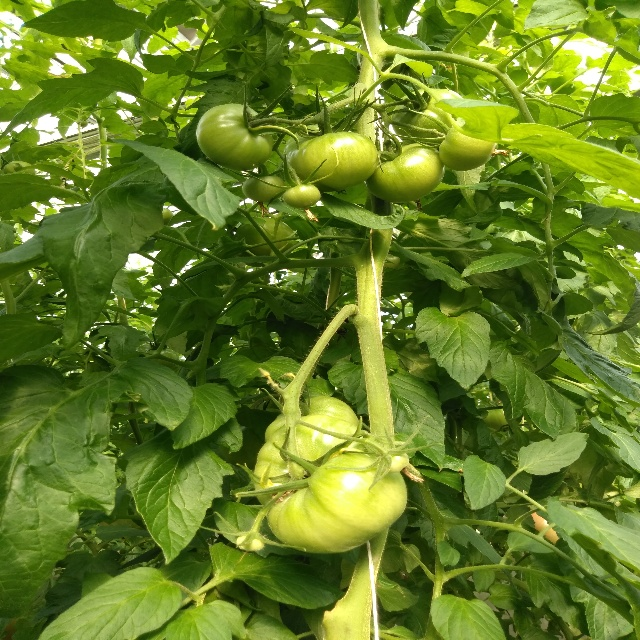b_green: (252, 414, 408, 553), (281, 124, 380, 192), (196, 103, 274, 172), (365, 143, 445, 203), (391, 88, 467, 149), (265, 396, 360, 444), (230, 217, 296, 268), (438, 126, 498, 172), (242, 175, 286, 202), (283, 183, 321, 209), (378, 450, 409, 474), (236, 533, 264, 551), (3, 161, 36, 174)
